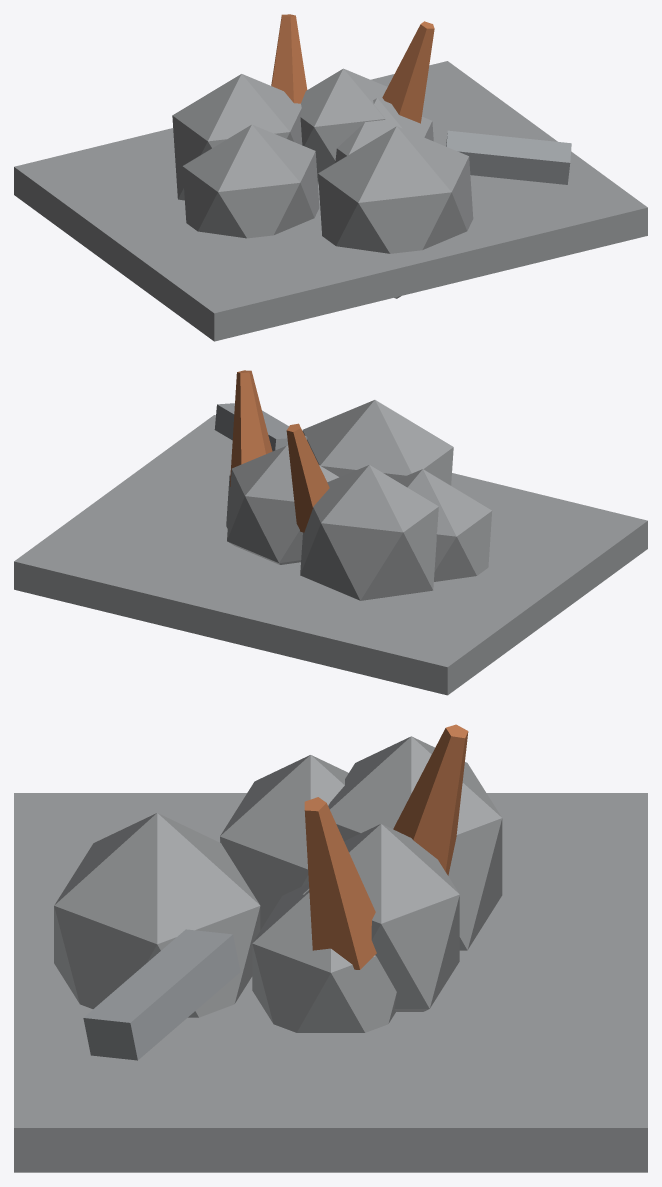
The model's file is watchtower_iron_cut.lod1.glb.
3 views of the same model, one above another, from view 1: azimuth 30°, elevation 25°; view 2: azimuth 150°, elevation 25°; view 3: azimuth 270°, elevation 25° (orthographic). The views are drawn at different scales.
Bounding box in the file's own units: 2.25 × 1.09 × 1.8.
